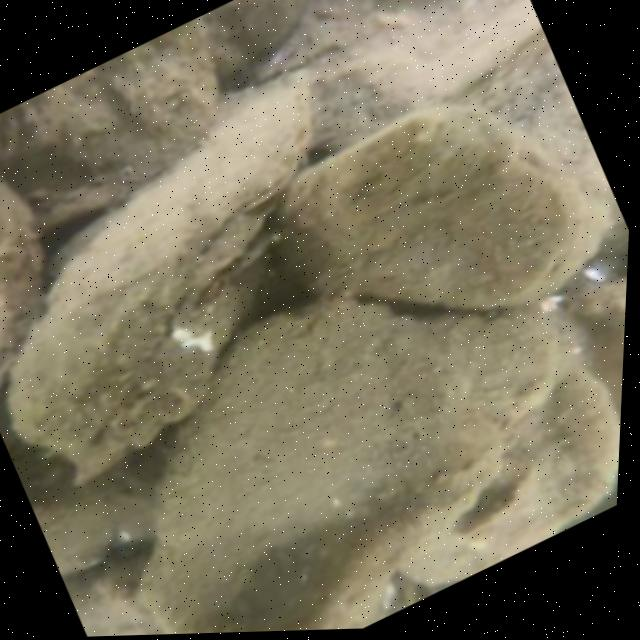Oyster-Indeterminate: (143, 307, 558, 634), (1, 75, 320, 494), (279, 108, 576, 313), (397, 363, 620, 588), (203, 0, 314, 78)
